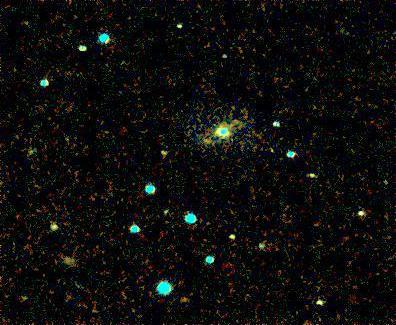star: (191, 131, 221, 161)
